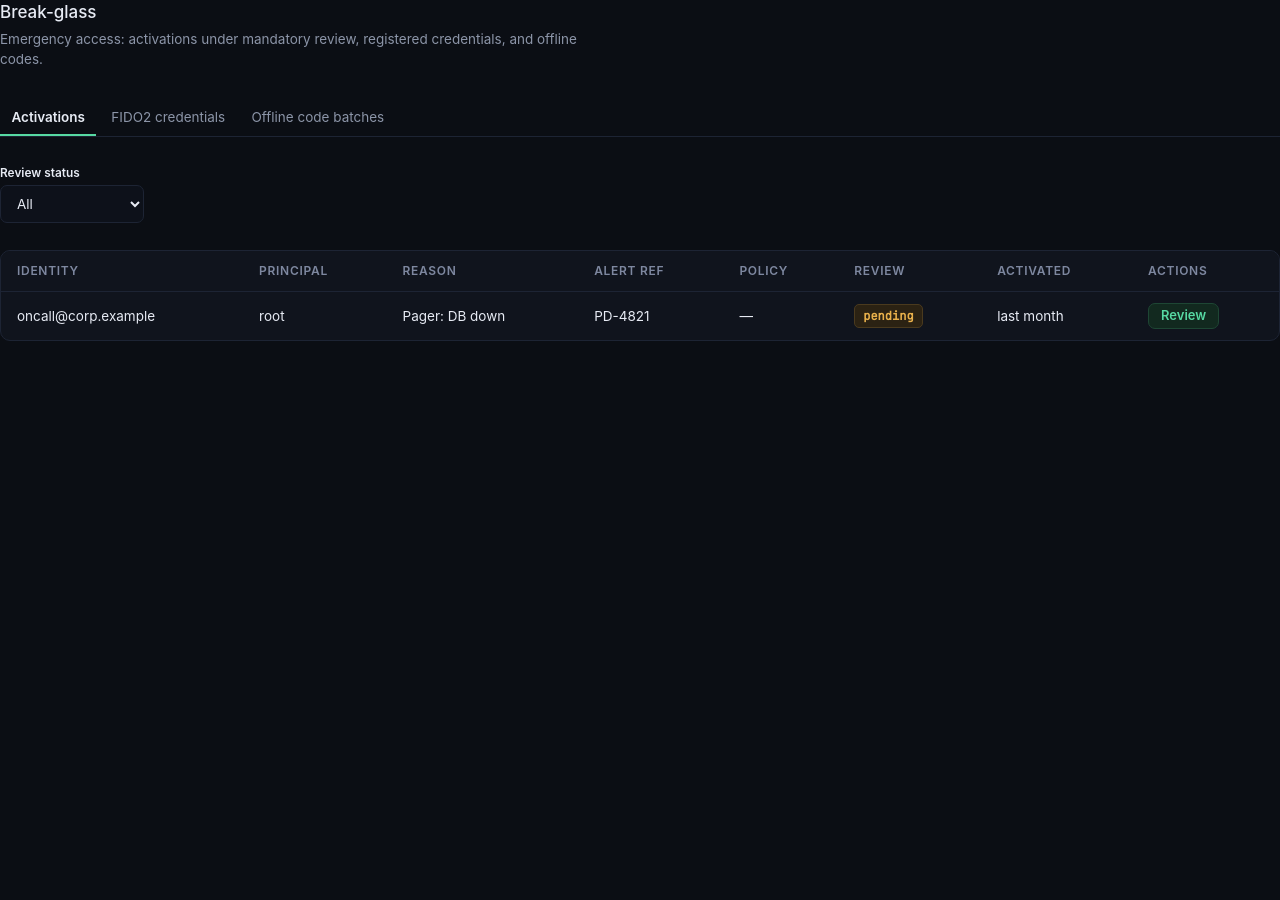
Scenario: BreakGlassScreen — activations › records a review and reflects the reviewed status
This screenshot has width=1280, height=900.
Click the button "Review": (1184, 316) top-left (1148, 303), bottom-right (1219, 329)
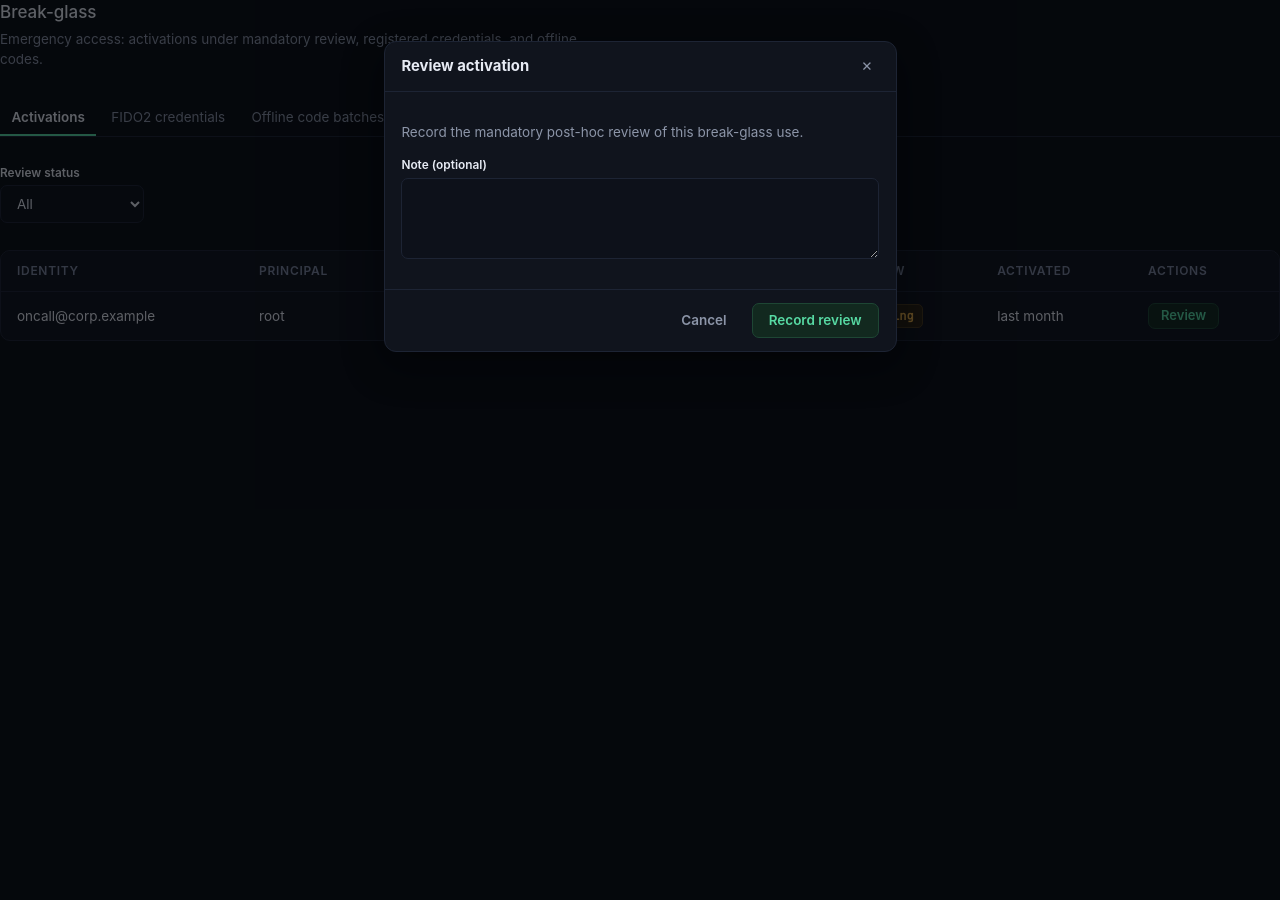
Click the button "Record review": (815, 320) top-left (752, 303), bottom-right (879, 338)
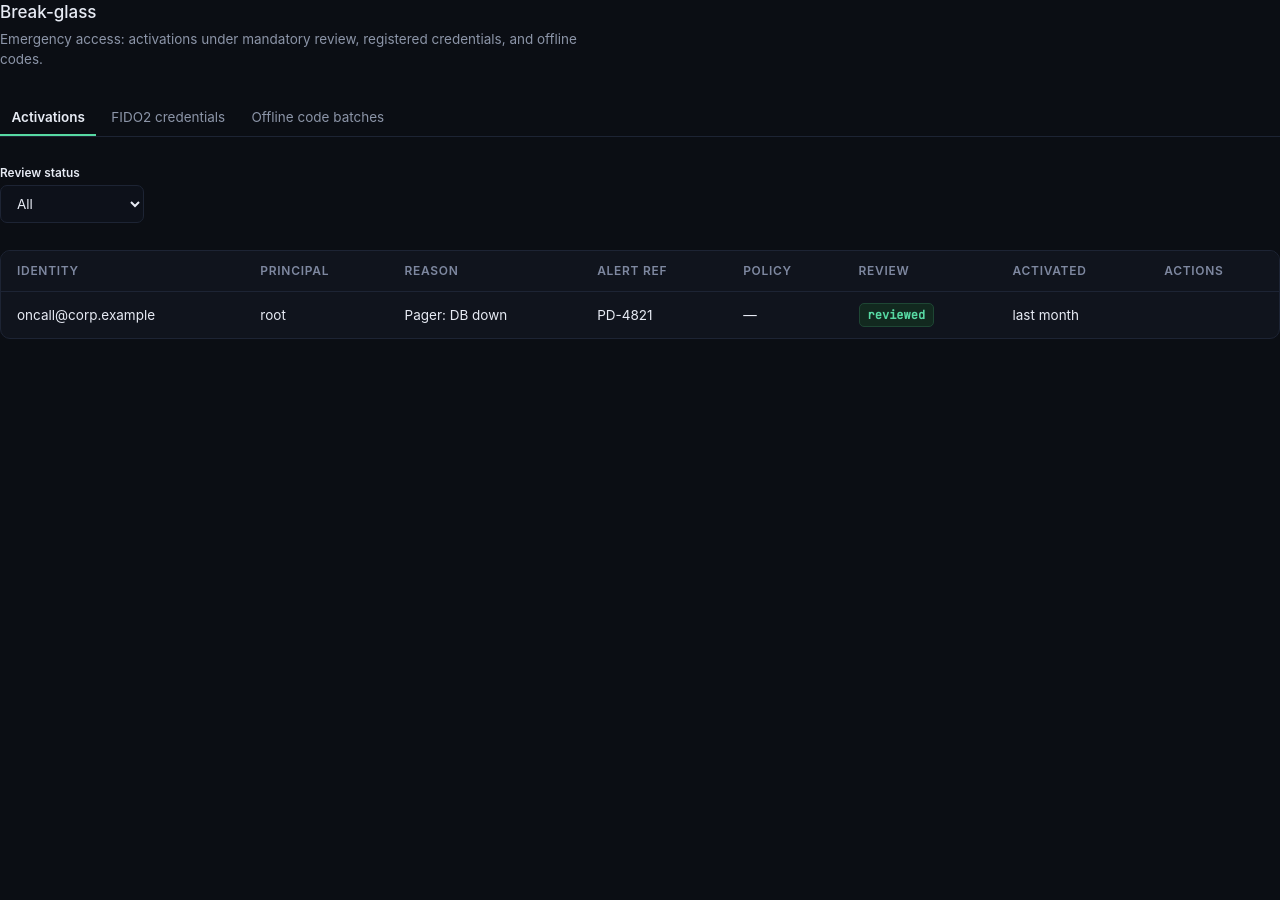
Expected: the text "reviewed" is shown, top-left (859, 303), bottom-right (934, 327)
